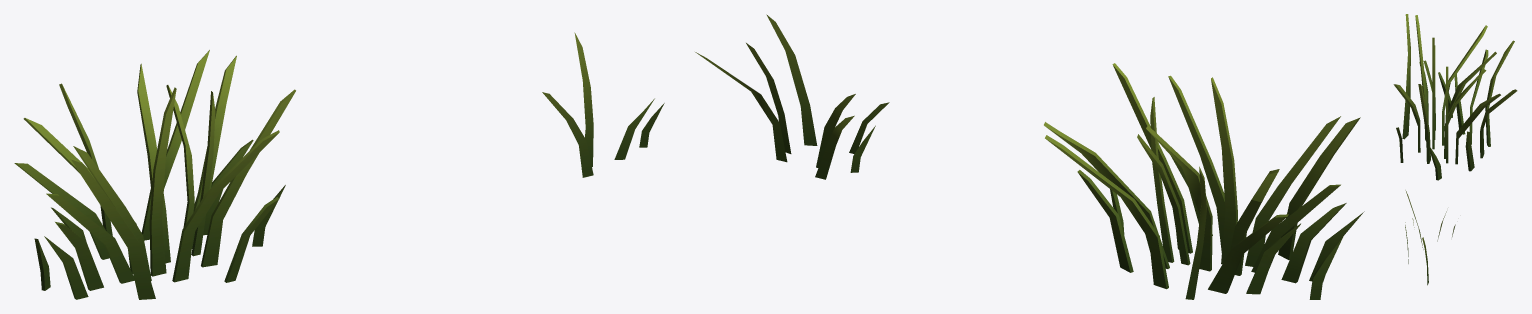
File: grass-wide.glb
3 renders of one model, left to right at view 1: azimuth 30°, elevation 25°; view 2: azimuth 150°, elevation 25°; view 3: azimuth 270°, elevation 25°, orthographic. The views are drawn at different scales.
Visible parts, largest first — view 1: Grass_Large_Extruded; view 2: Grass_Large_Extruded; view 3: Grass_Large_Extruded.
Boxes of the visible parts, bbox=[...] form: Grass_Large_Extruded: bbox=[14, 32, 664, 299]; Grass_Large_Extruded: bbox=[695, 14, 1364, 299]; Grass_Large_Extruded: bbox=[1393, 14, 1517, 285].
Bounding box in the file's own units: 1.84 × 0.5113 × 0.4973.
Materials: 1 (1 with a texture image).
